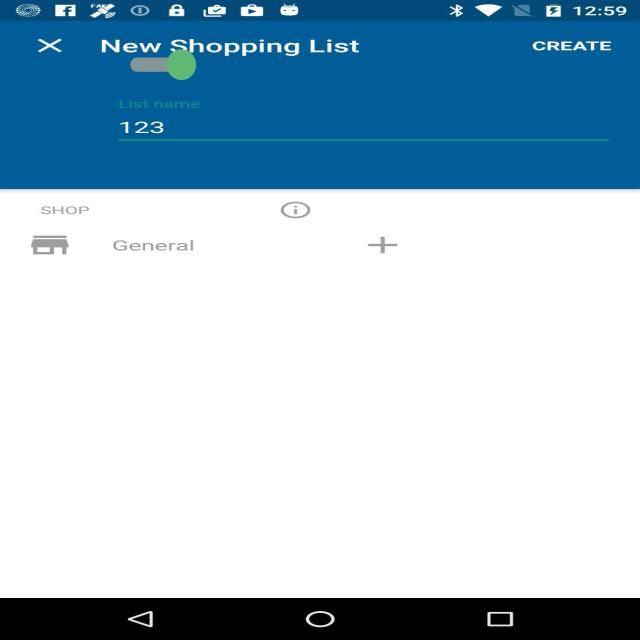social proof: (130, 30, 197, 99)
